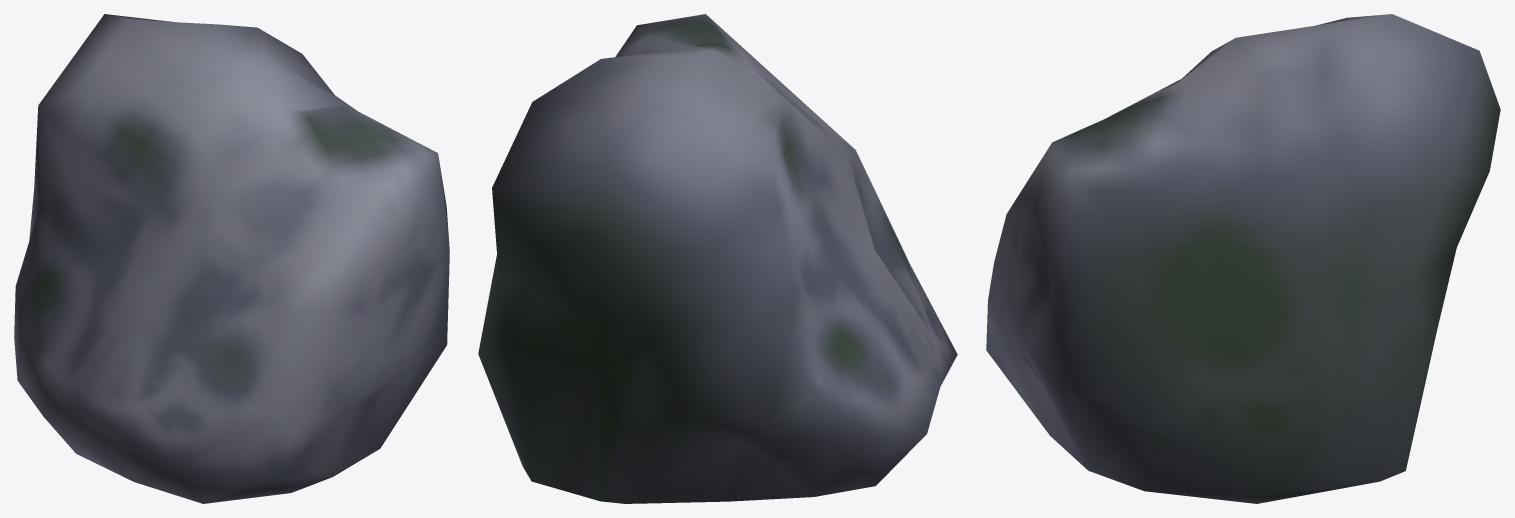
File: rock1.fbx
3 renders of one model, left to right at view 1: azimuth 30°, elevation 25°; view 2: azimuth 150°, elevation 25°; view 3: azimuth 270°, elevation 25°, orthographic. The views are drawn at different scales.
Visible parts, largest first — view 1: rock; view 2: rock; view 3: rock.
Boxes of the visible parts, <box> form: rock: <box>14,14,449,503</box>; rock: <box>478,14,957,503</box>; rock: <box>986,14,1500,503</box>.
Size of the model in its own units: 0.2555 by 0.2506 by 0.2919.
